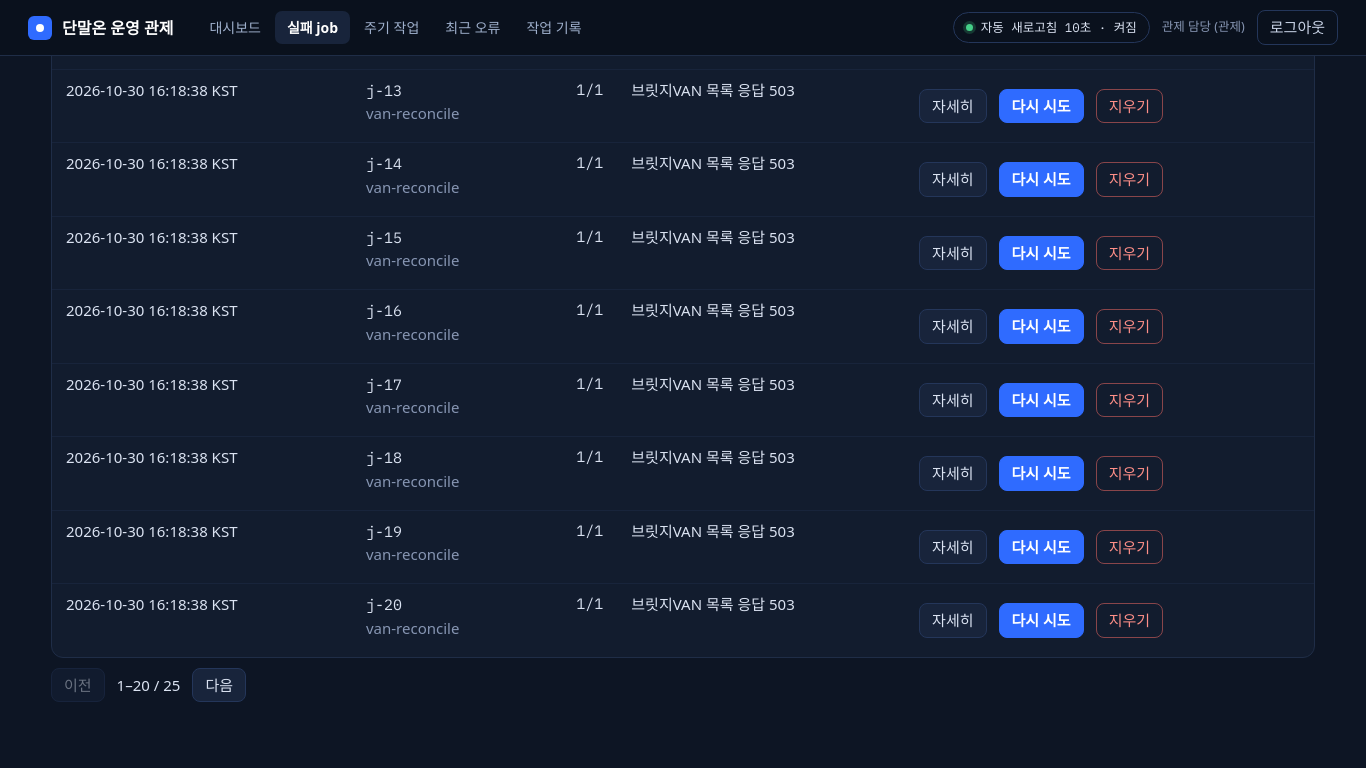
Test: 실패 job (보강 6, decisions/0072) › 둘째 쪽을 보다가 큐를 바꾸거나 메뉴 "실패 job"을 다시 누르면 첫 쪽부터(최종 리뷰 Minor 2)
The width and height of the screenshot is (1366, 768).
(page scrolled)
Click the button "다음" at (219, 685), box x1=192 y1=668 x2=246 y2=702
(page scrolled)
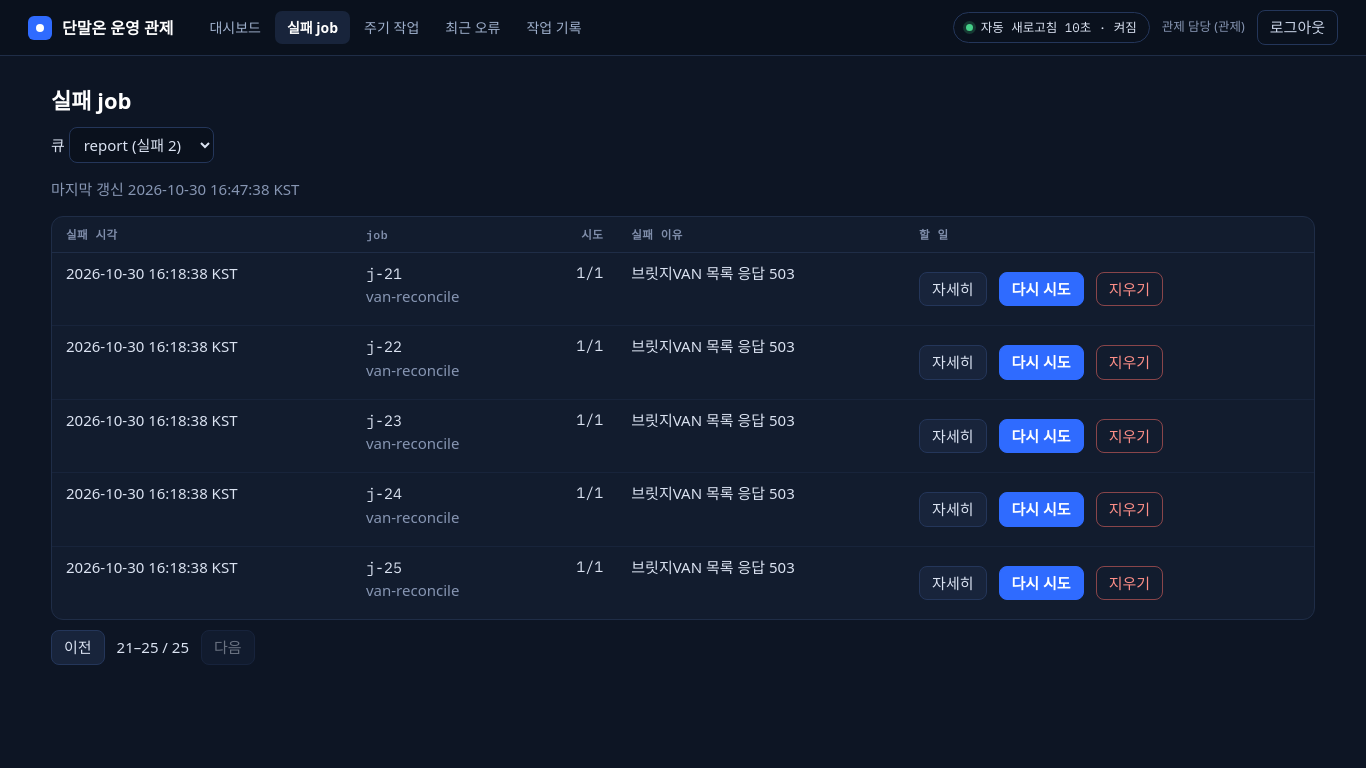
Check: the text "21–25 / 25" is shown, box x1=117 y1=636 x2=189 y2=659
Select "outbox (실패 0)" in the dropdown labelled "큐" at (141, 145), box x1=69 y1=127 x2=214 y2=163
(page scrolled)
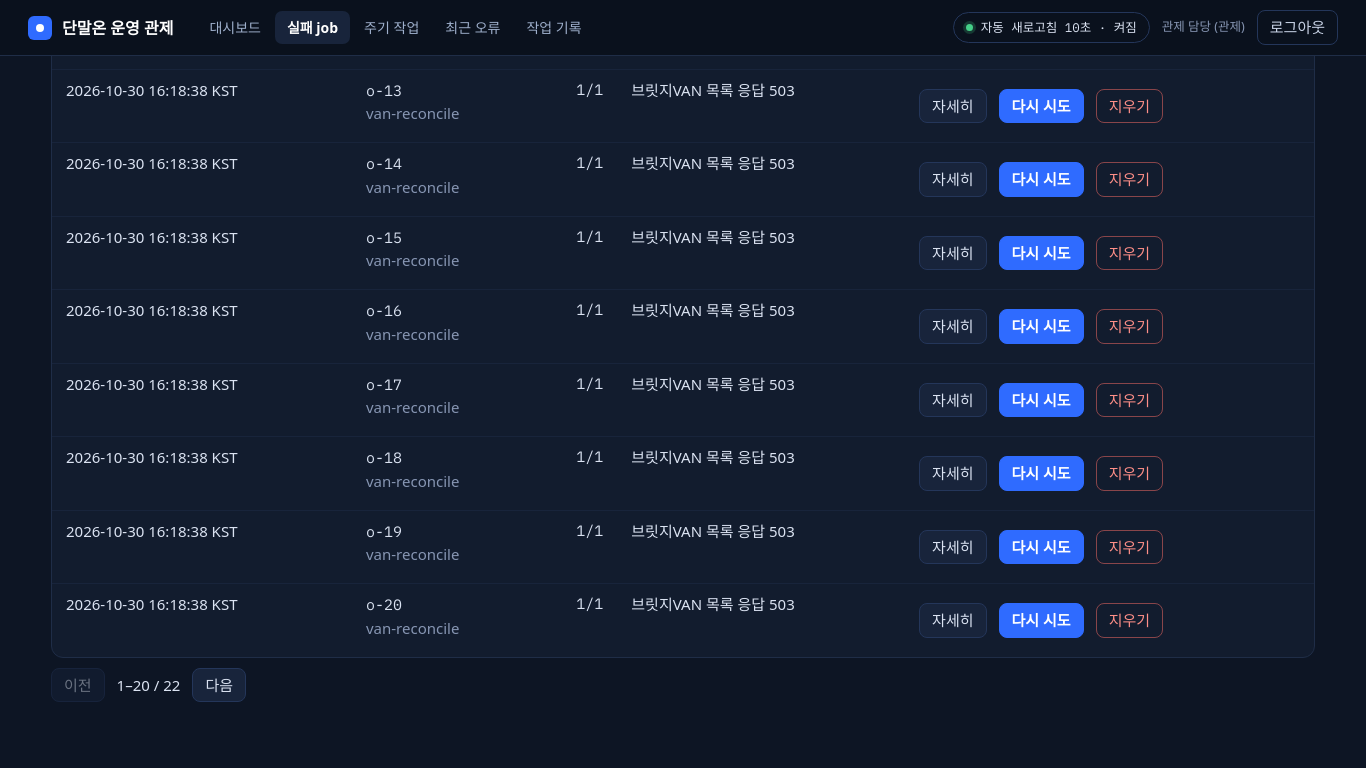
Check: the text "1–20 / 22" is shown, box x1=117 y1=674 x2=180 y2=696
Click the button "다음" at (219, 685), box x1=192 y1=668 x2=246 y2=702
(page scrolled)
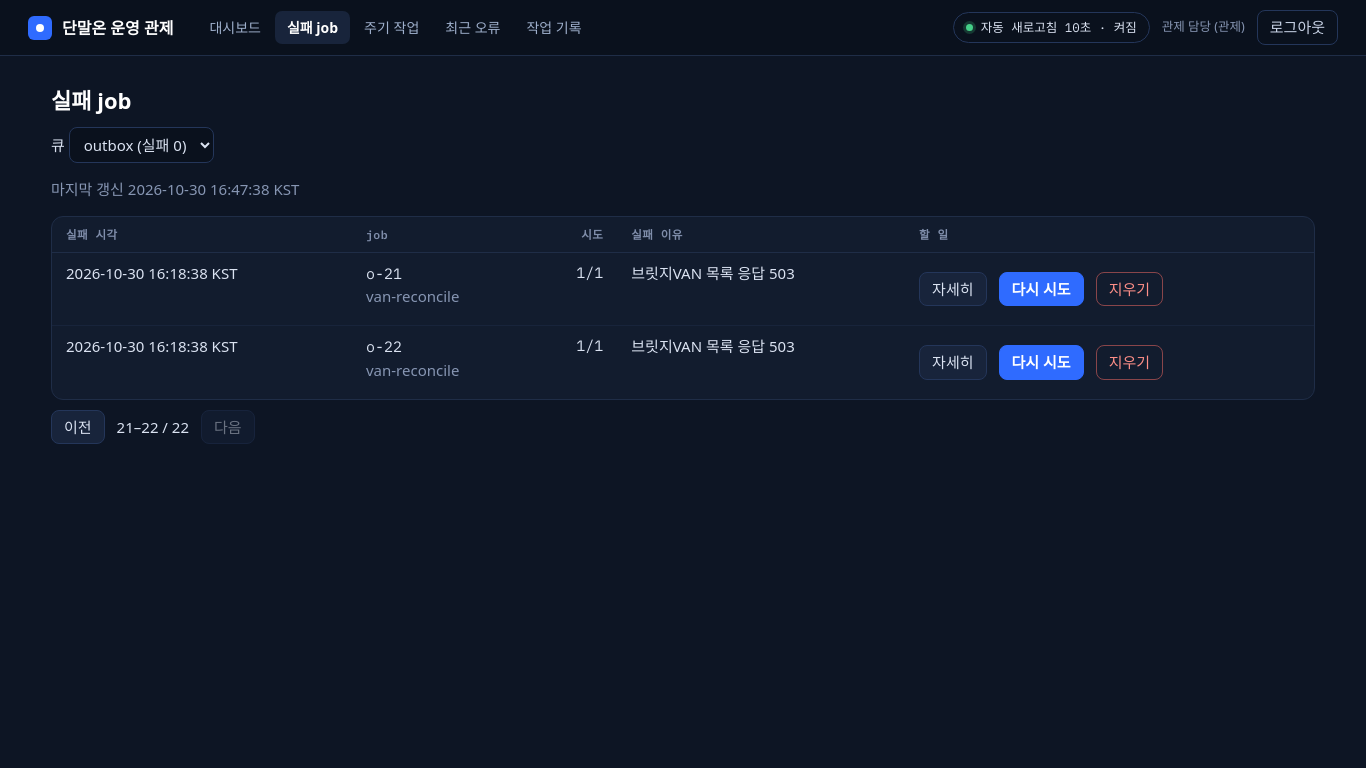
Check: the text "21–22 / 22" is shown, box x1=117 y1=416 x2=189 y2=438
Click the link "실패 job" at (312, 28), box x1=275 y1=11 x2=350 y2=44
(page scrolled)
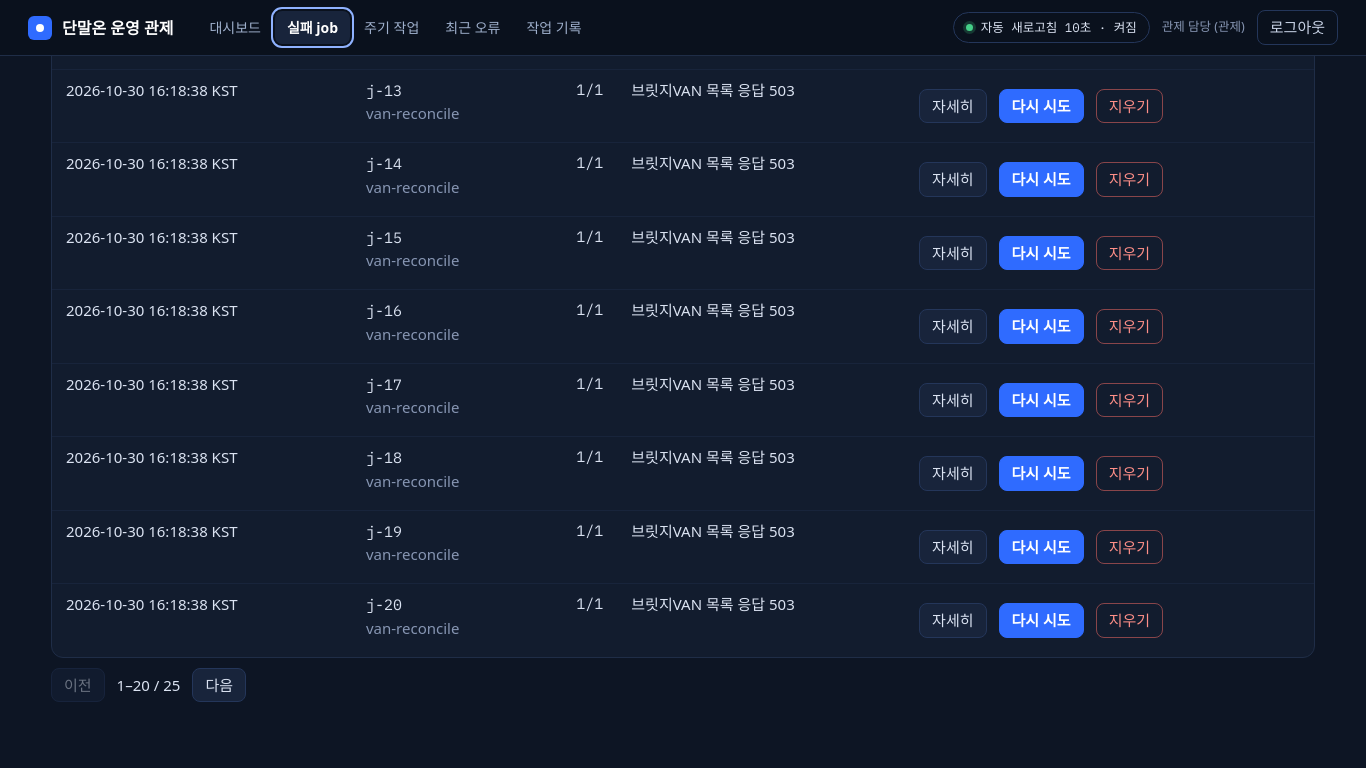
Check: the text "1–20 / 25" is shown, box x1=117 y1=674 x2=180 y2=696
